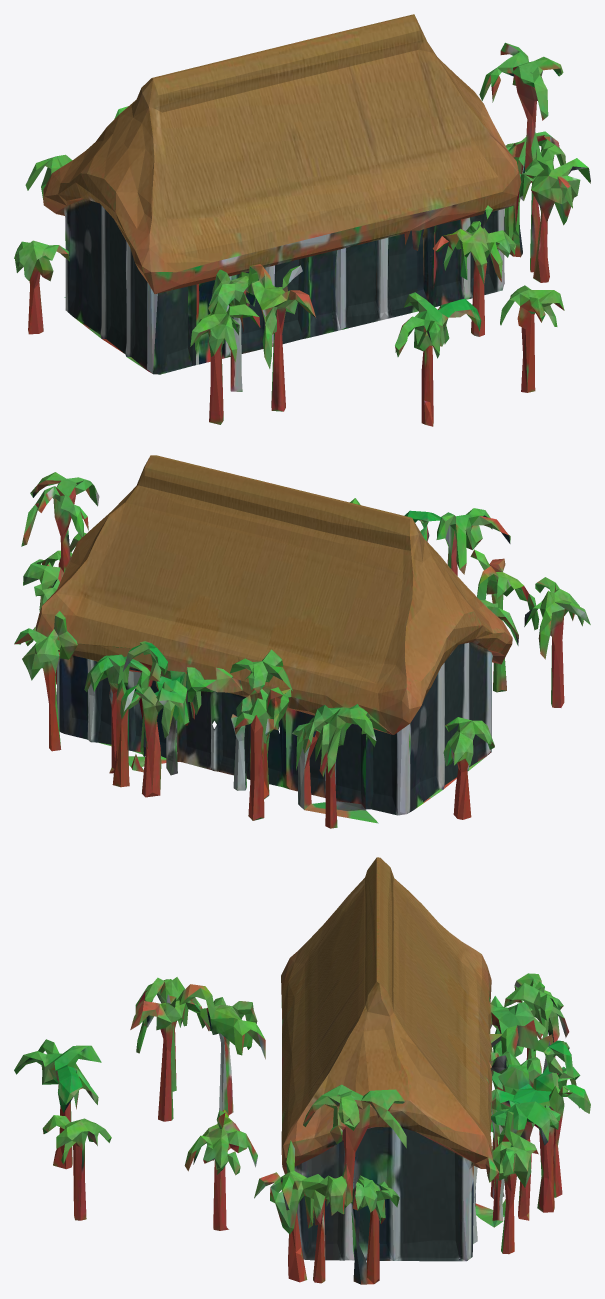
Rendered from guaranies_centro.glb.
The picture shows the model from 3 angles, top to bottom: view 1: azimuth 30°, elevation 25°; view 2: azimuth 150°, elevation 25°; view 3: azimuth 270°, elevation 25°; orthographic projection.
Parts seen in each view (by area): view 1: geometry_0; view 2: geometry_0; view 3: geometry_0.
Part boxes in pixels (x1=…): geometry_0: x1=14, y1=14, x2=590, y2=426; geometry_0: x1=14, y1=455, x2=590, y2=828; geometry_0: x1=14, y1=857, x2=590, y2=1284.
Size of the model in its own units: 3.39 by 1.65 by 3.4.
1 material, 1 textured.
